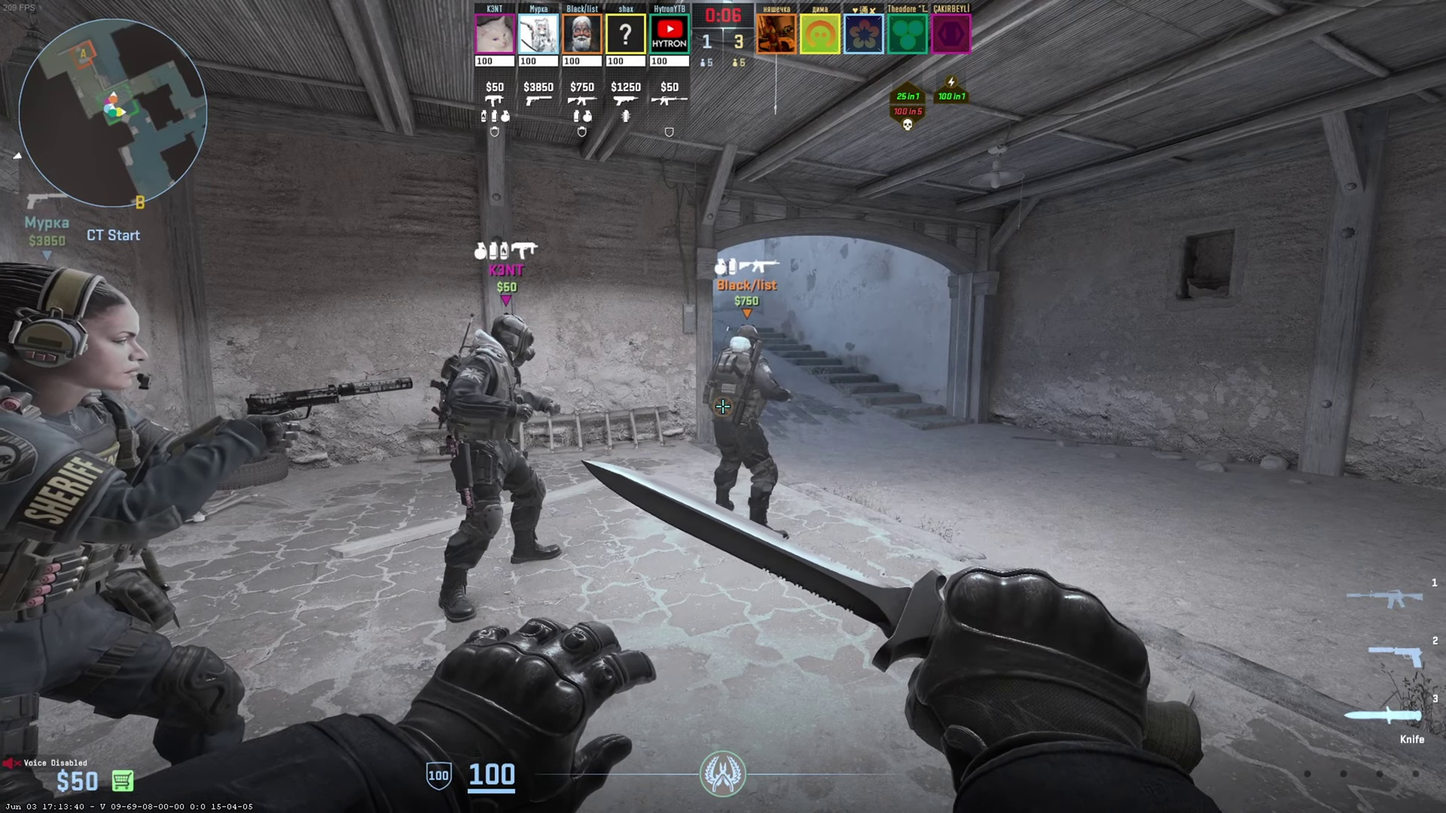CT: (0, 264, 243, 810), (436, 312, 561, 617), (710, 325, 785, 536)
